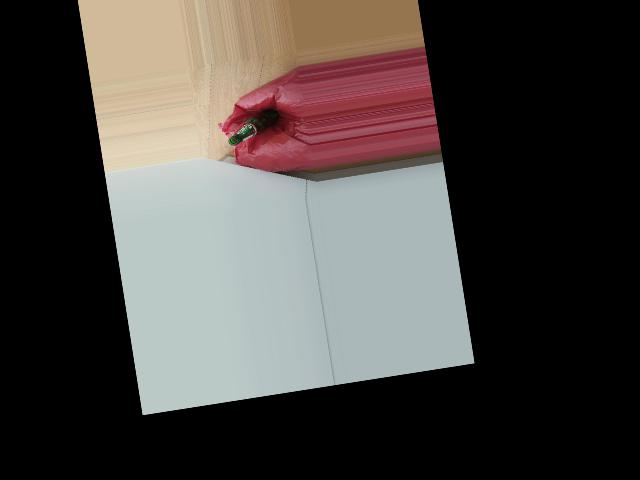beer: (224, 107, 281, 145)
